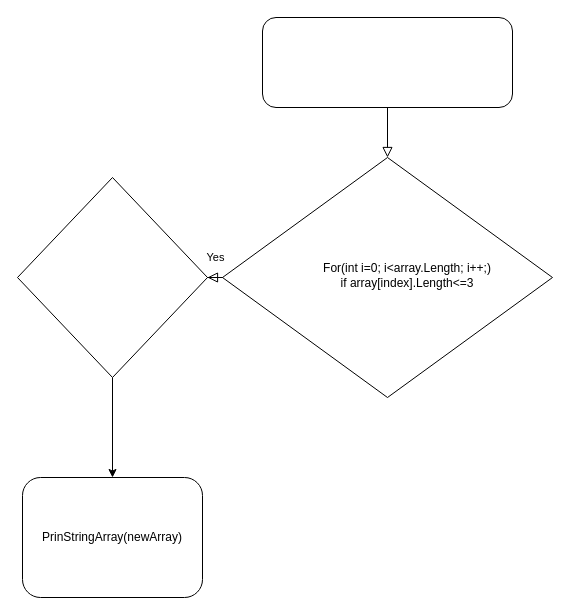
The diagram is 570 pixels wide and 615 high, and some of its shapes have lost their labels. The centre of each missing label's shape, as x and y in pixels:
"newArray[index]= array[index]" belongs at pixel 112 277.
"string [] array =[UserInput]; size=UserInput; string [] newArray=[...]" belongs at pixel 387 62.
